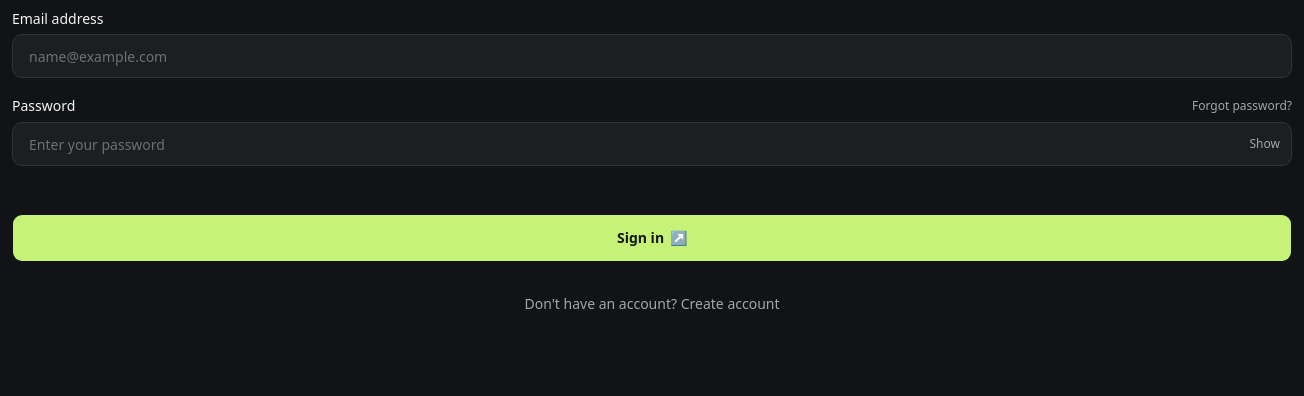
Test case: LoginForm › shows HTTP 401 login error
Type "user@example.com" into the field labelled "Email address" at (652, 56), box [12,34,1292,78]
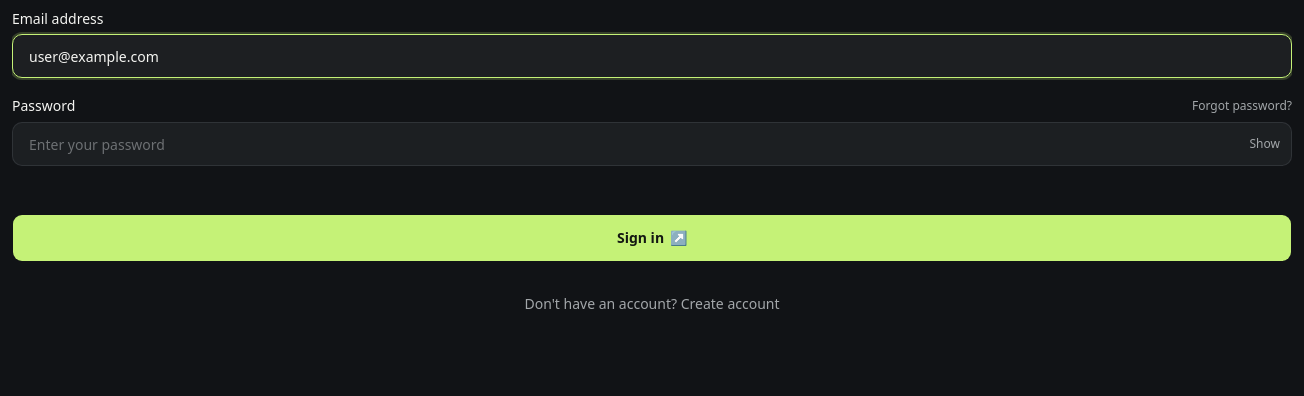
Type "Password123" into the password field labelled "Password" at (652, 144), box [12,122,1292,166]
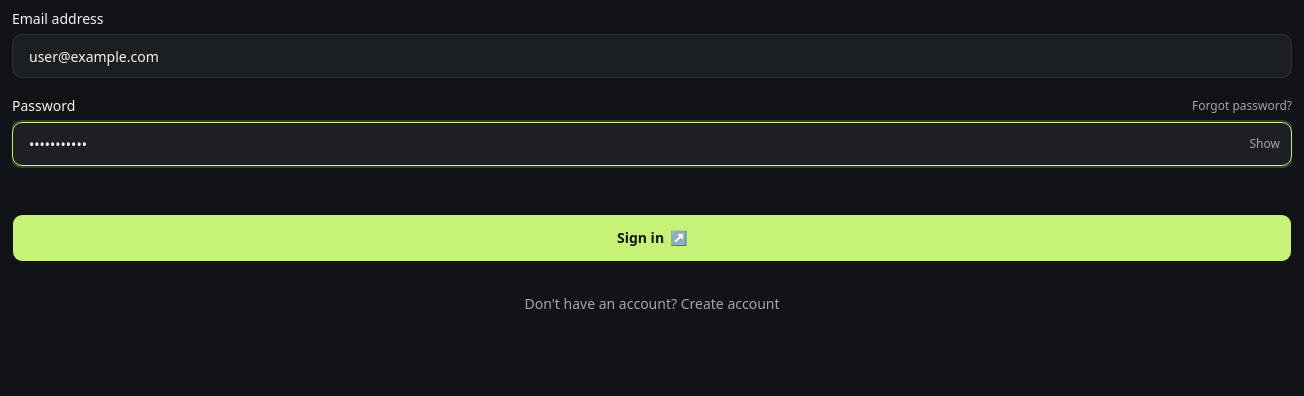
Click the button "Sign in ↗" at (652, 238), box [12,214,1292,262]
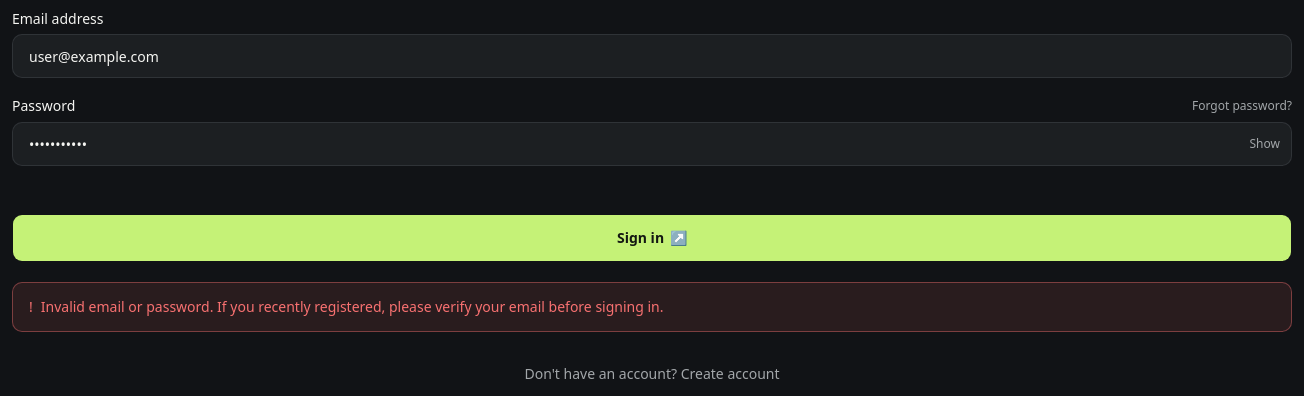
expect the text "Invalid email or password. If you recently registered, please verify your email before signing in." is shown: met, box [41,297,664,316]
